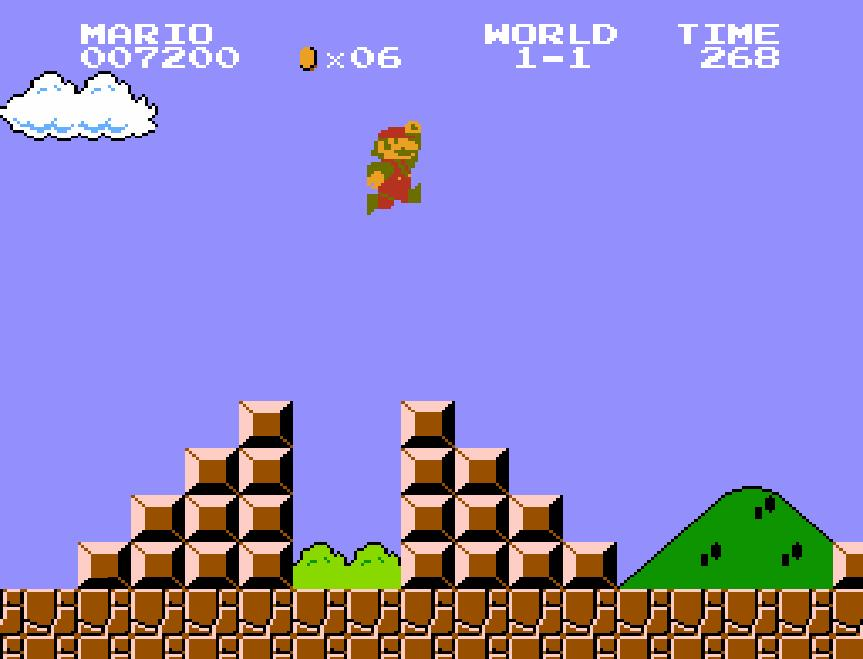big_mario: (366, 118, 424, 216)
